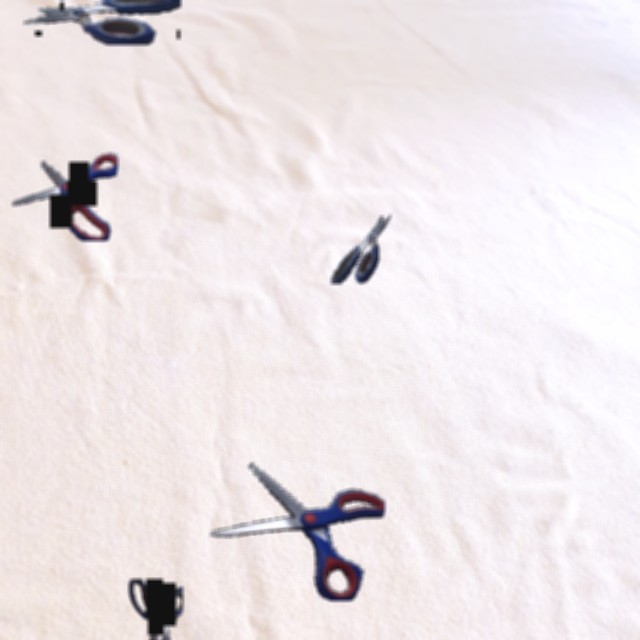scissors: (210, 463, 385, 601), (12, 153, 118, 241), (24, 0, 181, 45), (331, 213, 391, 284), (129, 579, 183, 640)
